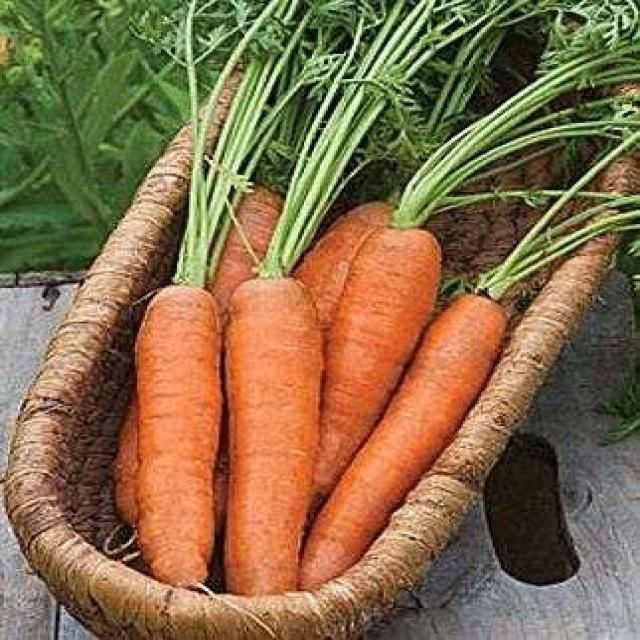carrots: (312, 225, 443, 464), (218, 277, 316, 593), (144, 284, 221, 588)
